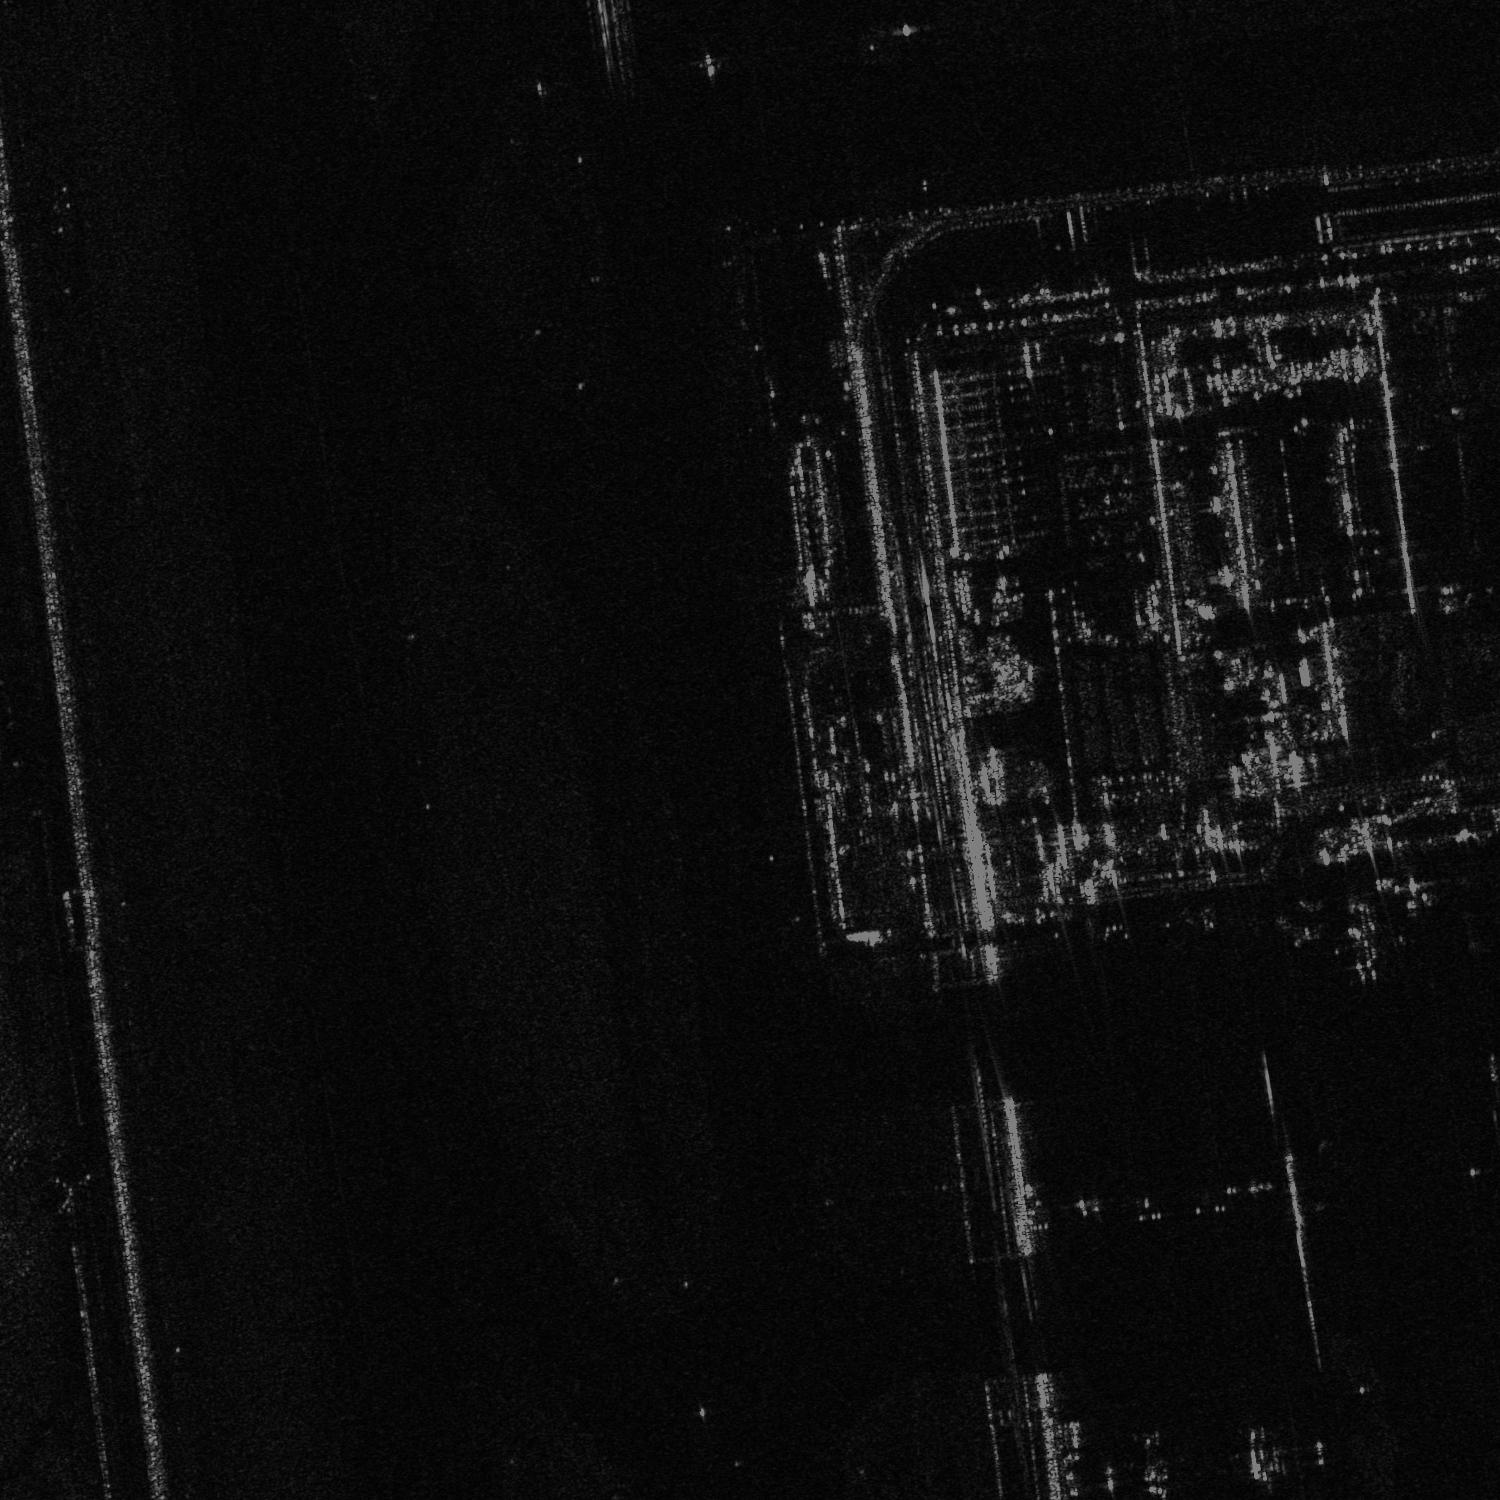Boeing787: (1334, 901, 1407, 984)
